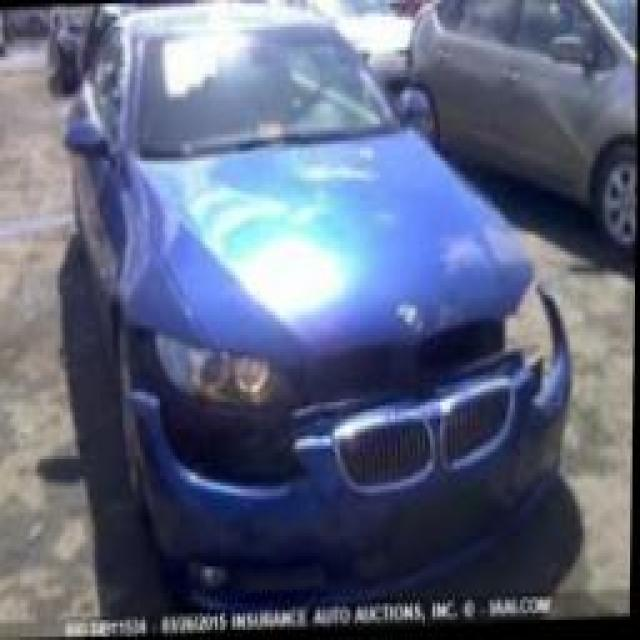Bumper: (125, 282, 573, 626)
